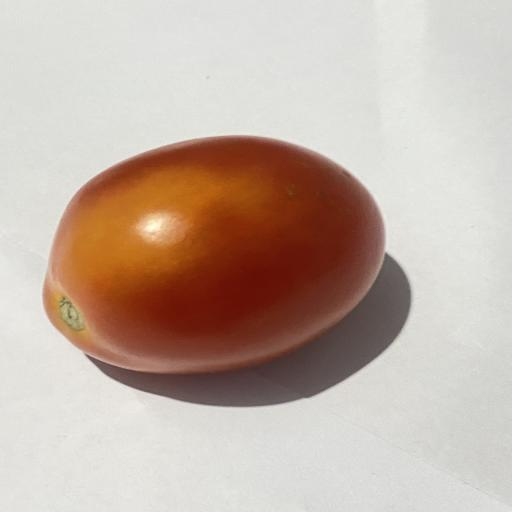ripe: (44, 136, 385, 373)
